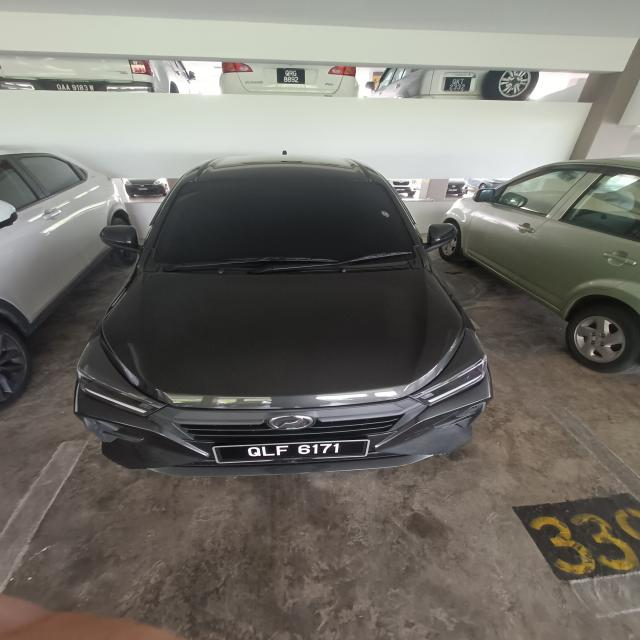PeroduaAxia: (72, 151, 493, 477)
